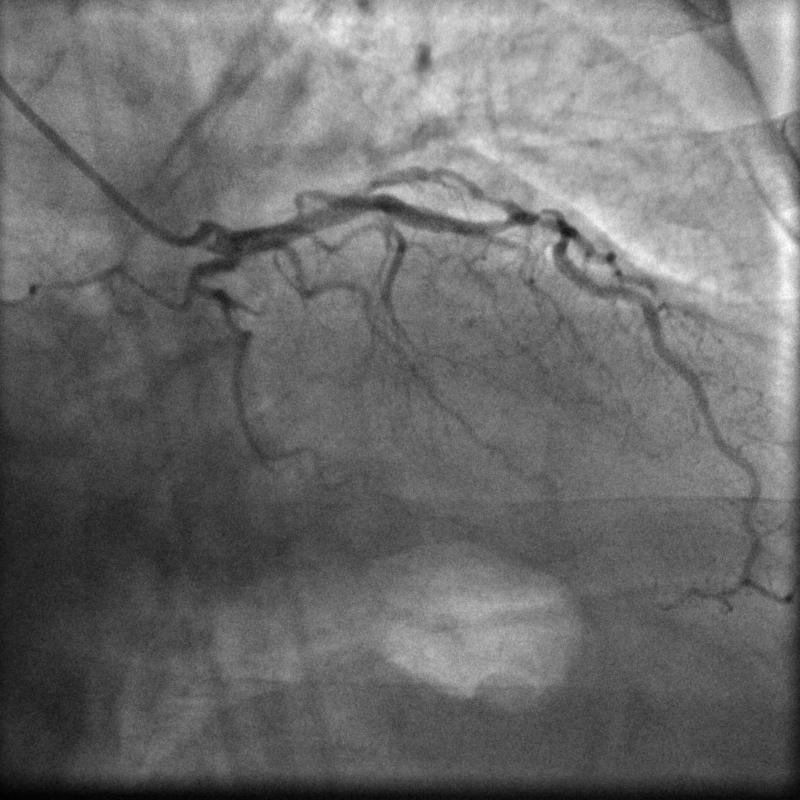Stenosis: (496, 202, 571, 241)
